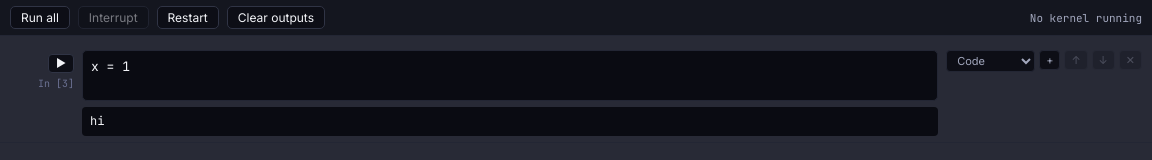
Test: editing the document › does not bring back the outputs when a cell returns to code
Expected: the element named "Cell output" reads "hi", [90,113,104,129]
Select "Markdown" in the dropdown named "Type of cell 1" at (991, 61), box [946,50,1035,72]
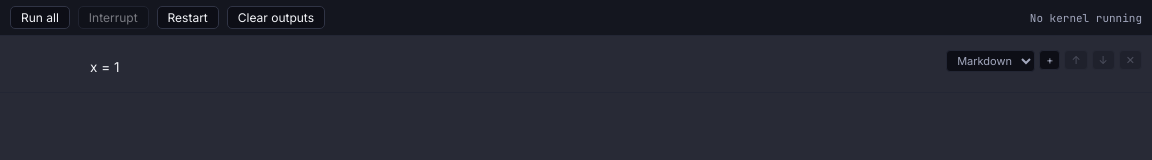
Select "Code" in the dropdown named "Type of cell 1" at (991, 61), box [946,50,1035,72]
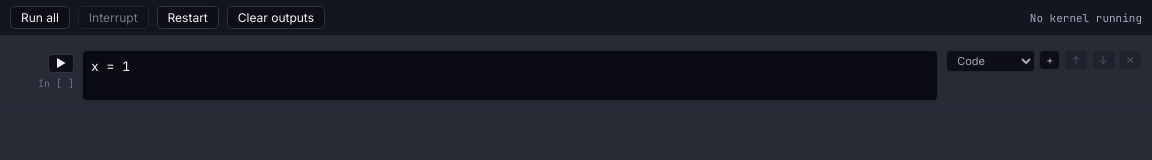
Now the text "In [ ]" is shown, box [38,77,74,90]
